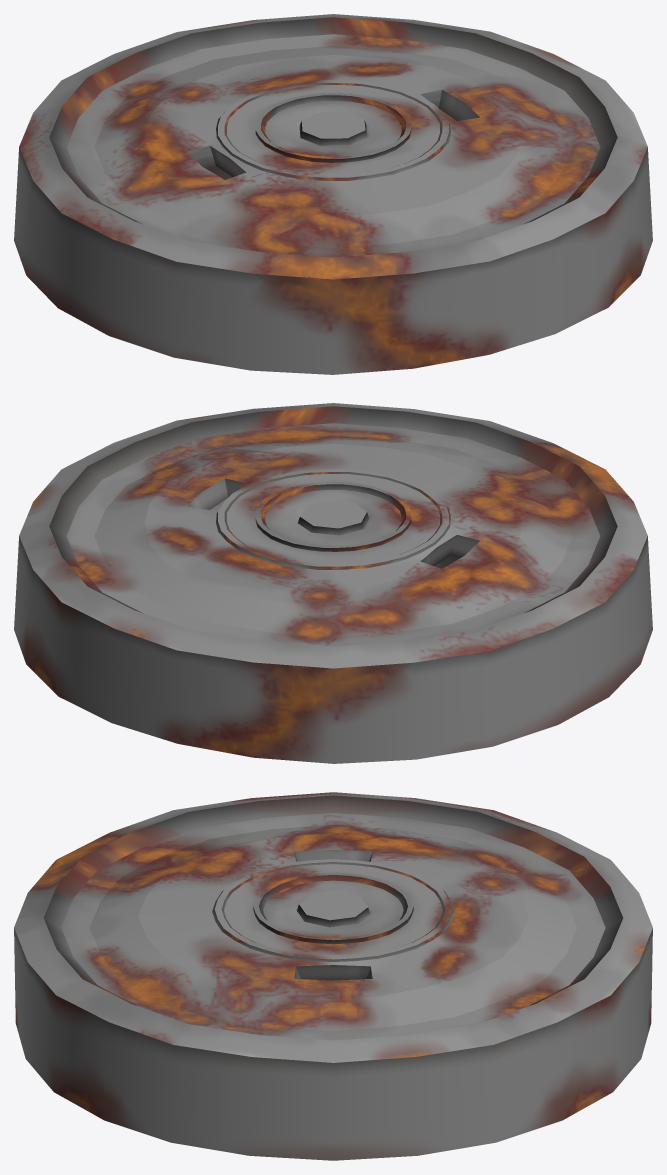
File: TampaBueiro.fbx
The picture shows the model from 3 angles, top to bottom: view 1: azimuth 30°, elevation 25°; view 2: azimuth 150°, elevation 25°; view 3: azimuth 270°, elevation 25°; orthographic projection.
Parts seen in each view (by area): view 1: TampaBueiro; view 2: TampaBueiro; view 3: TampaBueiro.
Boxes of the visible parts, x1=… form: TampaBueiro: x1=14, y1=14, x2=652, y2=374; TampaBueiro: x1=14, y1=403, x2=652, y2=763; TampaBueiro: x1=14, y1=792, x2=652, y2=1160.
Size of the model in its own units: 1.56 by 0.3126 by 1.53.
